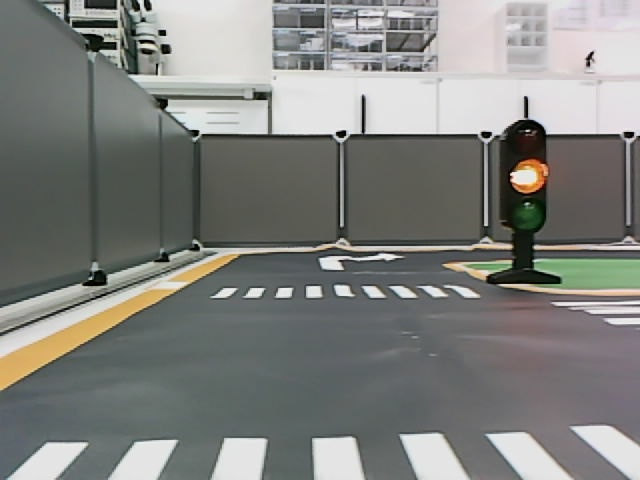crosswalk: (1, 420, 640, 480), (209, 285, 485, 299)
